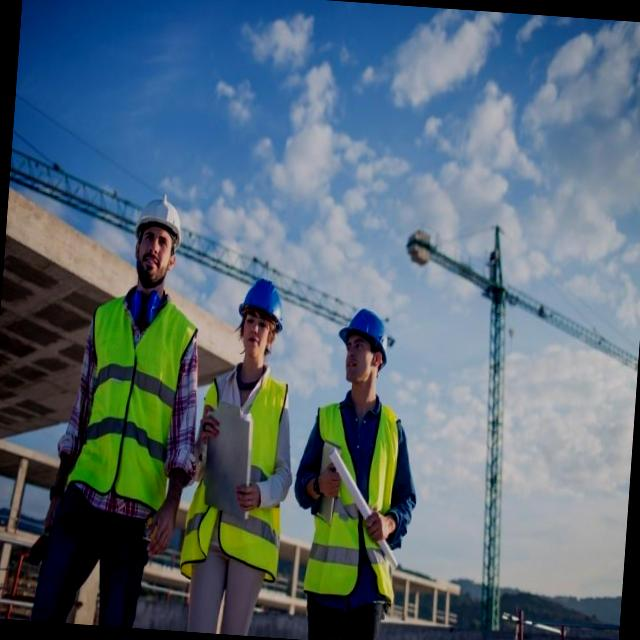helmet: (334, 306, 395, 383), (130, 188, 187, 266), (232, 274, 292, 340)
vest: (54, 290, 199, 530), (182, 362, 298, 589), (297, 394, 409, 606)
